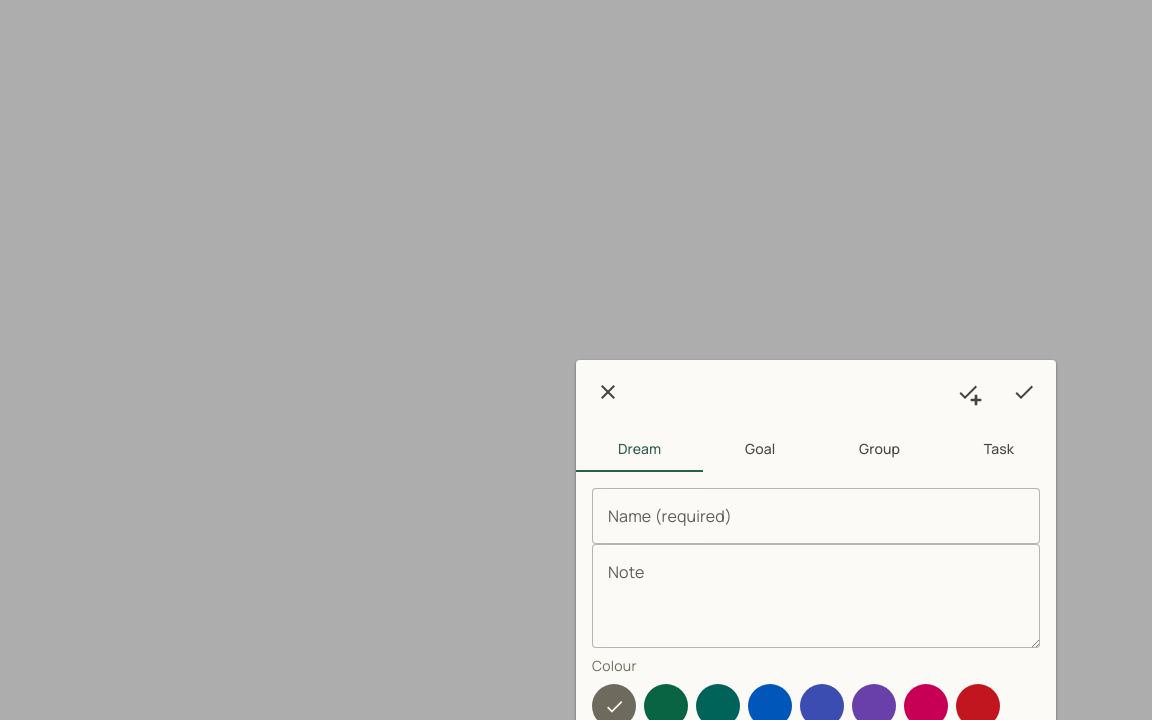
AddEntityDialog saving a dream › blocks save and shows an error when the dream name is empty
Click the button named "Save": (1024, 392) 1000,368 -> 1048,416
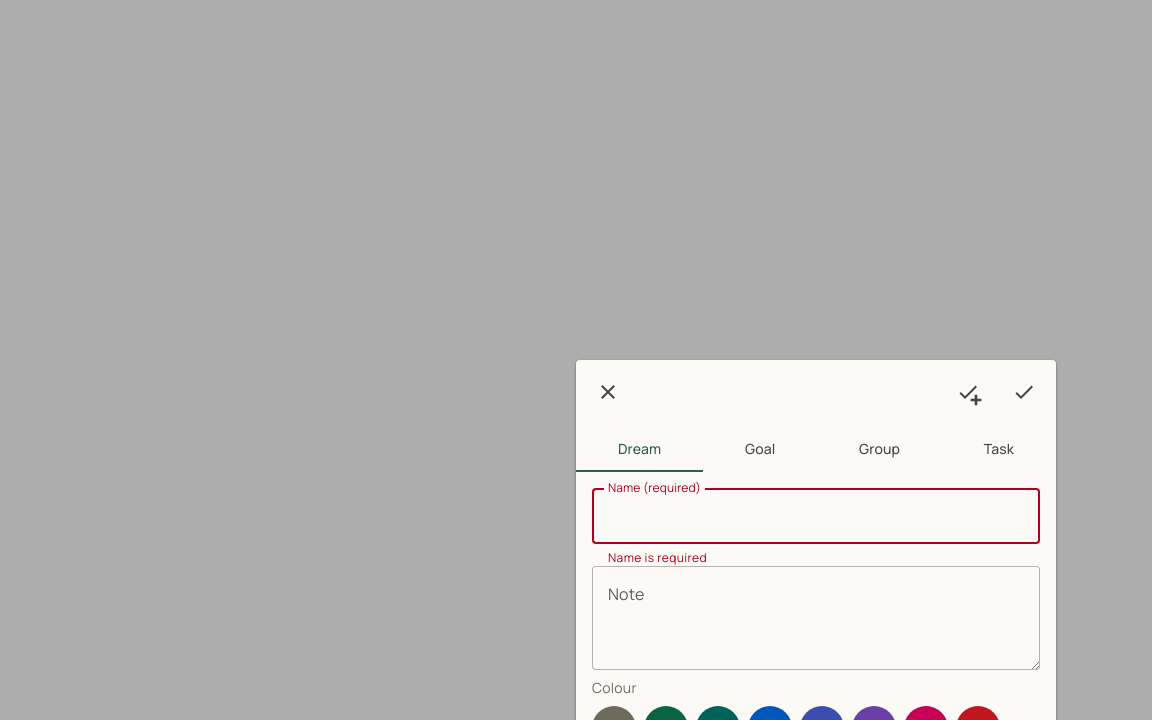
Expected: the text "Name is required" is shown, 608,549 -> 707,566
